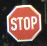stopsign: (7, 4, 41, 43)
